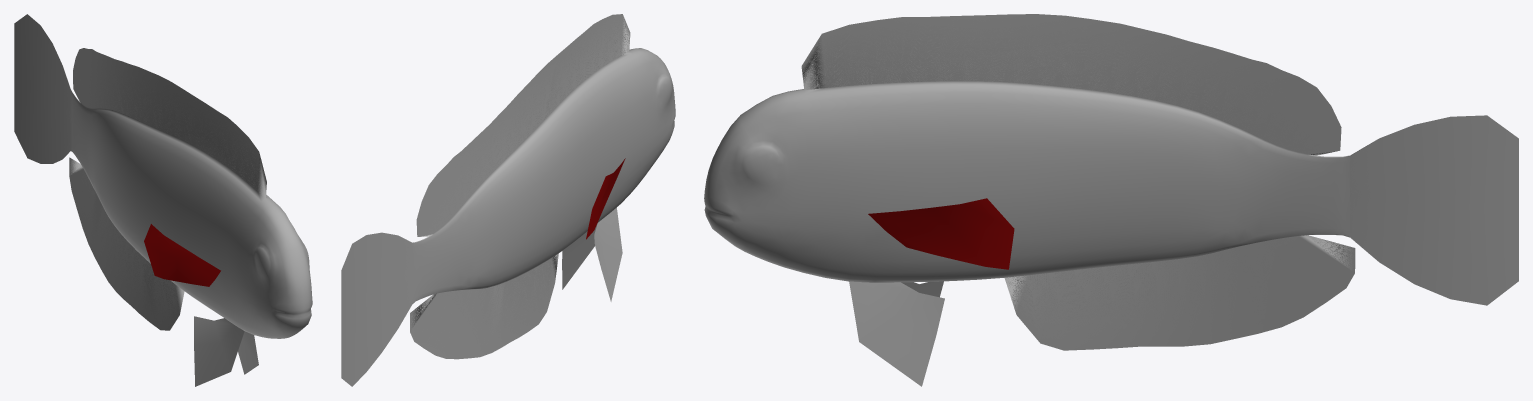
The model's file is Labridae_E.fbx.
3 views of the same model, side by side, from view 1: azimuth 30°, elevation 25°; view 2: azimuth 150°, elevation 25°; view 3: azimuth 270°, elevation 25° (orthographic). The views are drawn at different scales.
Visible parts, largest first — view 1: Labridae_E_LOD0; view 2: Labridae_E_LOD0; view 3: Labridae_E_LOD0.
Part boxes in pixels (x1=…): Labridae_E_LOD0: x1=14, y1=14, x2=312, y2=386; Labridae_E_LOD0: x1=341, y1=14, x2=675, y2=386; Labridae_E_LOD0: x1=704, y1=14, x2=1518, y2=386.
Size of what is drawn, in the model's own units: 0.1503 by 0.4682 by 0.9754.
